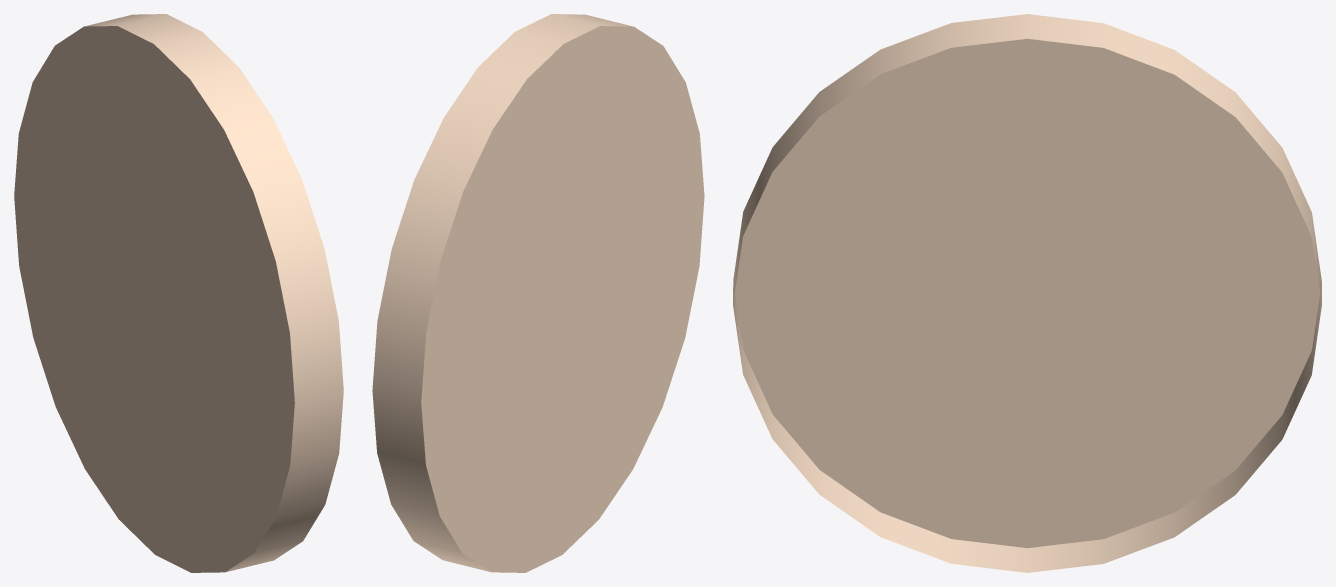
Rendered from original-15.obj.
The picture shows the model from 3 angles, left to right: view 1: azimuth 30°, elevation 25°; view 2: azimuth 150°, elevation 25°; view 3: azimuth 270°, elevation 25°; orthographic projection. The views are drawn at different scales.
Parts seen in each view (by area): view 1: #ID102; view 2: #ID102; view 3: #ID102.
Boxes of the visible parts, x1,y1,x2,y2 form: #ID102: (14,14,343,572); #ID102: (372,14,704,572); #ID102: (733,14,1321,572).
Size of the model in its own units: 0.00876 by 0.0846 by 0.0846.
